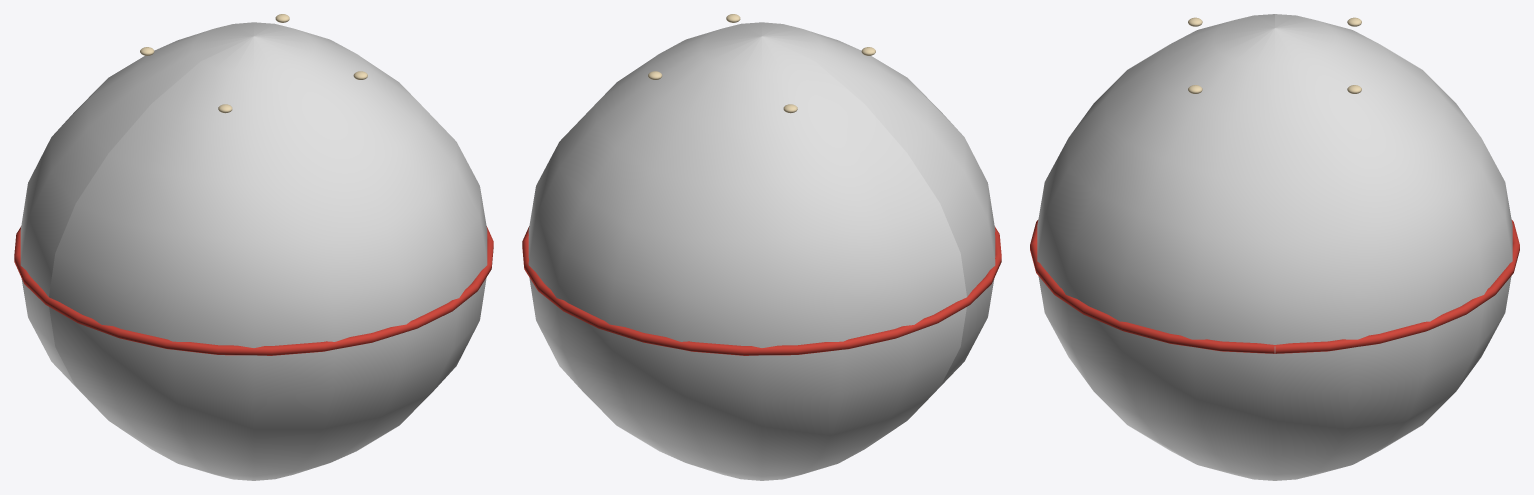
Rendered from pillow-light.glb.
3 renders of one model, left to right at view 1: azimuth 30°, elevation 25°; view 2: azimuth 150°, elevation 25°; view 3: azimuth 270°, elevation 25°, orthographic.
Visible parts, largest first — view 1: linen, red; view 2: linen, red; view 3: linen, red.
Part boxes in pixels (bbox=[...]): linen: bbox=[20, 22, 487, 480]; red: bbox=[14, 226, 493, 355]; linen: bbox=[528, 22, 995, 480]; red: bbox=[522, 226, 1001, 355]; linen: bbox=[1037, 14, 1512, 480]; red: bbox=[1030, 220, 1519, 353].
Bounding box in the file's own units: 0.7996 × 0.79 × 0.7996.
